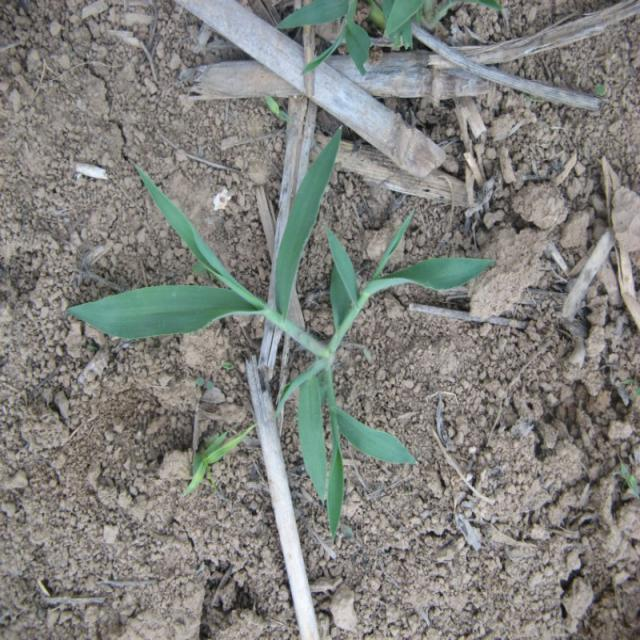bg: (70, 128, 493, 522)
